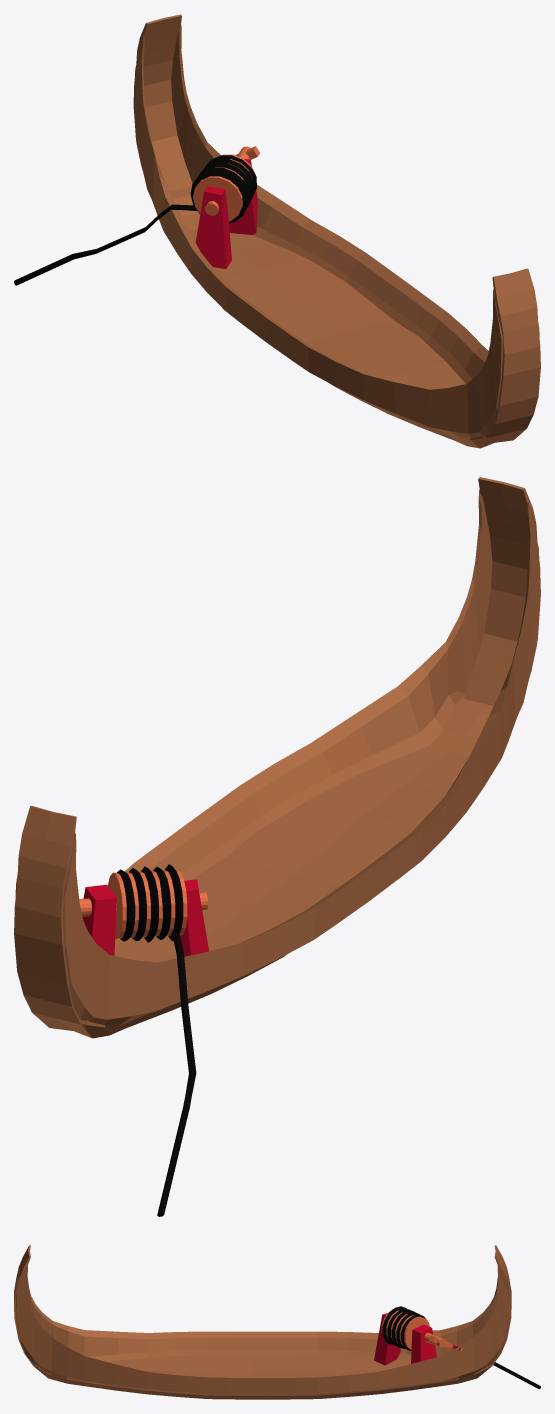
Rendered from LODKA.fbx.
The picture shows the model from 3 angles, top to bottom: view 1: azimuth 30°, elevation 25°; view 2: azimuth 150°, elevation 25°; view 3: azimuth 270°, elevation 25°; orthographic projection. The views are drawn at different scales.
Visible parts, largest first — view 1: Cube.200, Cylinder, Cube.202, Cylinder.001, Cube.201; view 2: Cube.200, Cylinder, Cylinder.001, Cube.201, Cube.202; view 3: Cube.200, Cylinder, Cube.201, Cube.202, Cylinder.001.
Boxes of the visible parts, box(x1,y1,x2,y2) form: Cube.200: box(133, 14, 540, 448); Cylinder: box(190, 146, 259, 222); Cube.202: box(195, 186, 231, 269); Cylinder.001: box(14, 204, 197, 285); Cube.201: box(229, 159, 257, 234); Cube.200: box(14, 477, 540, 1038); Cylinder: box(79, 864, 207, 942); Cylinder.001: box(157, 931, 196, 1216); Cube.201: box(82, 884, 116, 955); Cube.202: box(180, 879, 208, 956); Cube.200: box(14, 1245, 511, 1399); Cylinder: box(381, 1306, 462, 1351); Cube.201: box(411, 1324, 436, 1363); Cube.202: box(374, 1313, 400, 1365); Cylinder.001: box(493, 1362, 540, 1389).
Bounding box in the file's own units: 505 × 670 × 1818.
